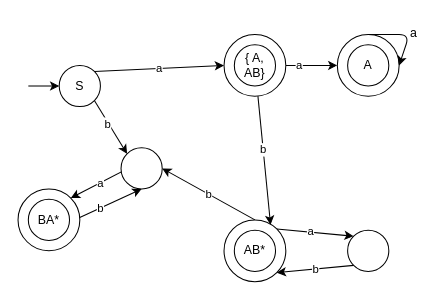
Image size: 447x300. Some labels were removed from this diagram. The shapes that lost their labels are listed below. From the top down, each one's box as (x1, y1, x2, y2) in pixels, then its label:
(120, 147, 162, 189): BA
(347, 229, 389, 271): AB
